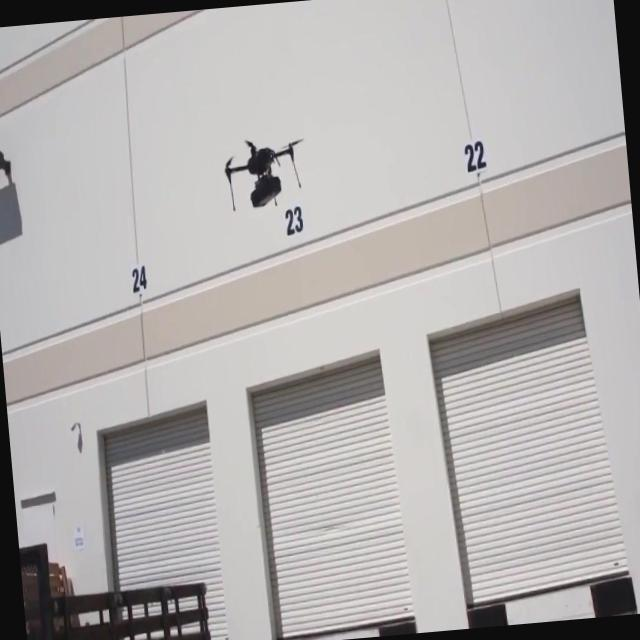drone: (222, 131, 307, 211)
